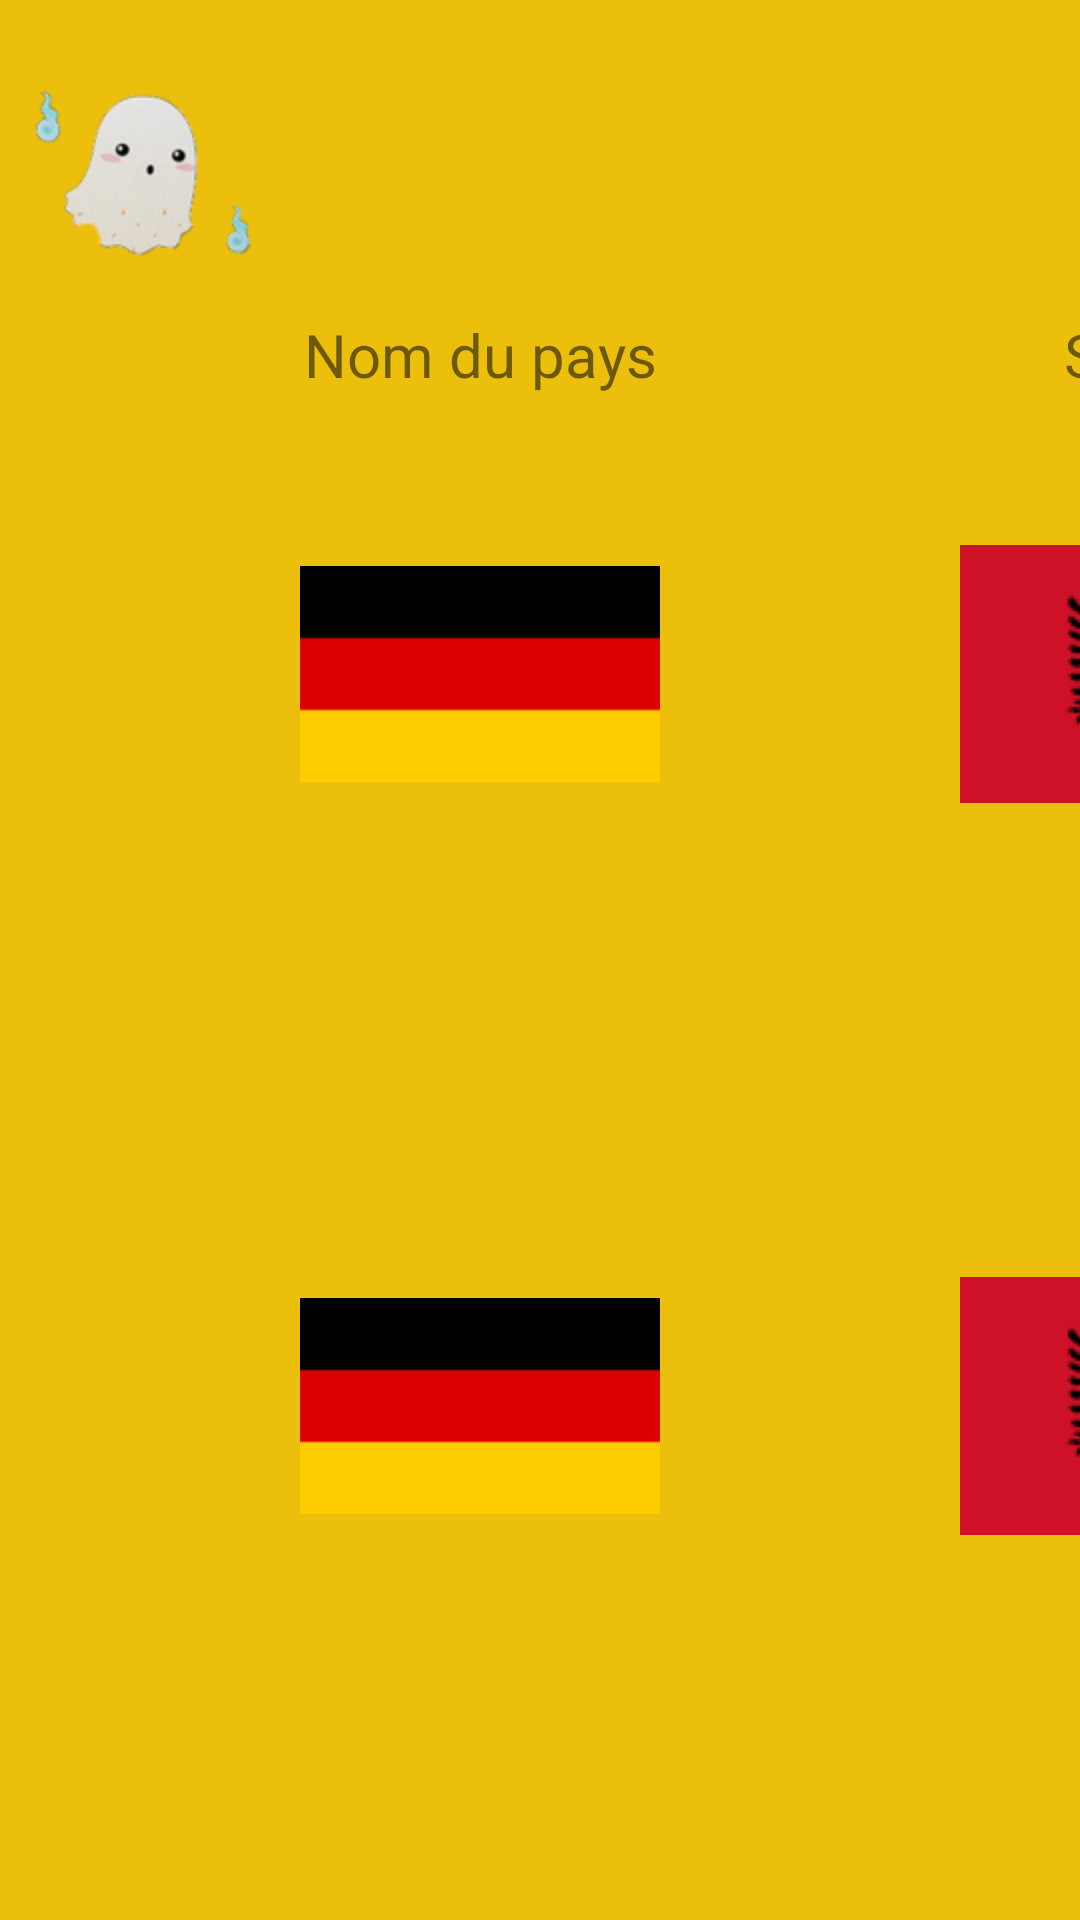

Point at icon controls on the screen. Image size 1080 × 1920, points as (x=x, y=y).
ghost: (x=143, y=173)
Premier drapeau: (x=480, y=638)
Troisième drapeau: (x=480, y=1370)
